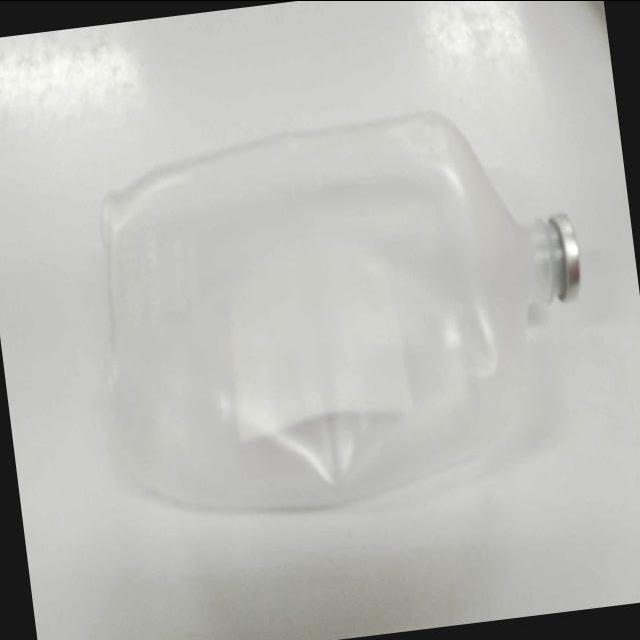General: (2, 3, 637, 639)
Infectious: (97, 110, 576, 514)
